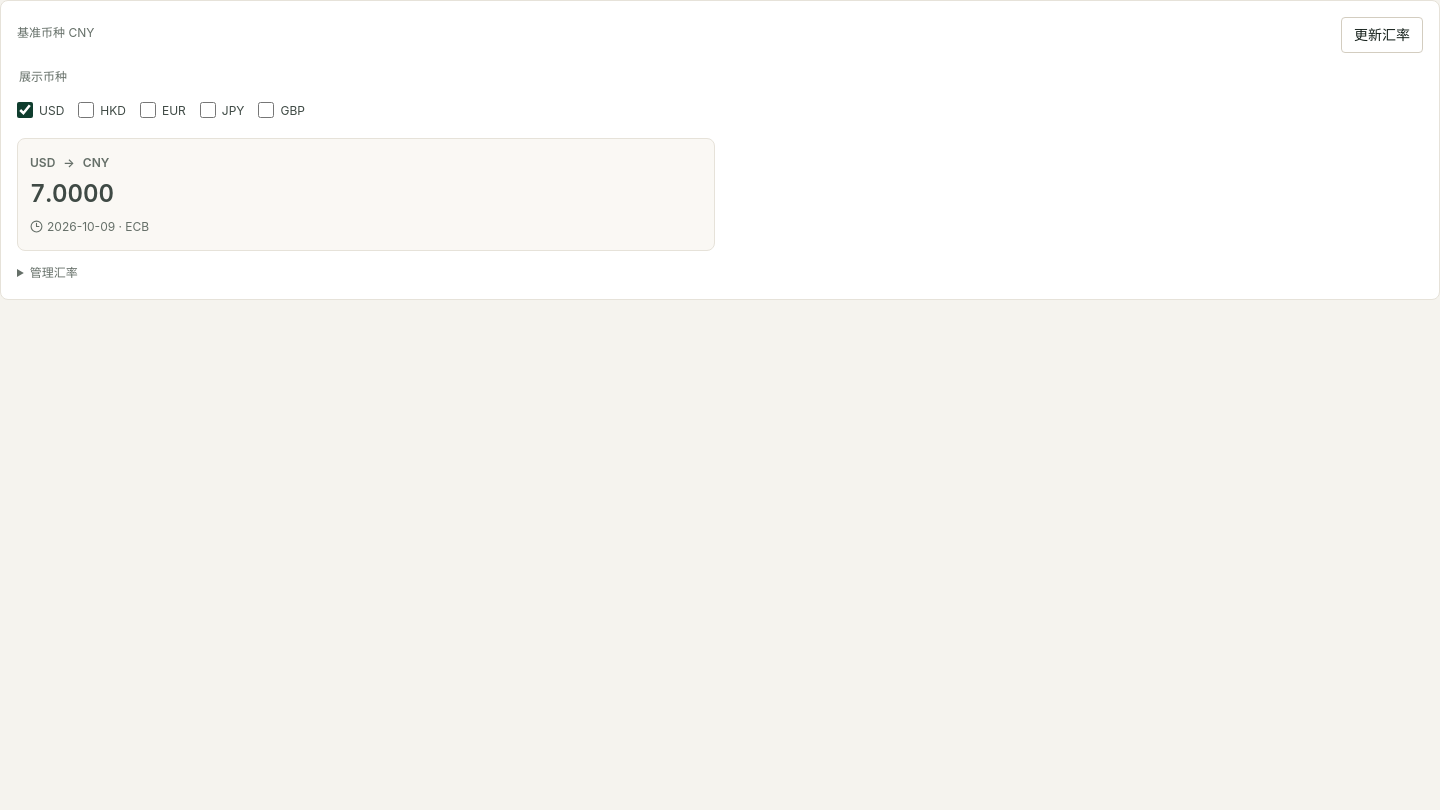
Test: shows automatically loaded values and saves a persistent manual rate then restores automatic
Expected: the text named "1 USD = 7.0000 CNY" is shown, [30,179,114,208]
Click the heading "管理汇率": x=54, y=273 [30,265,78,280]
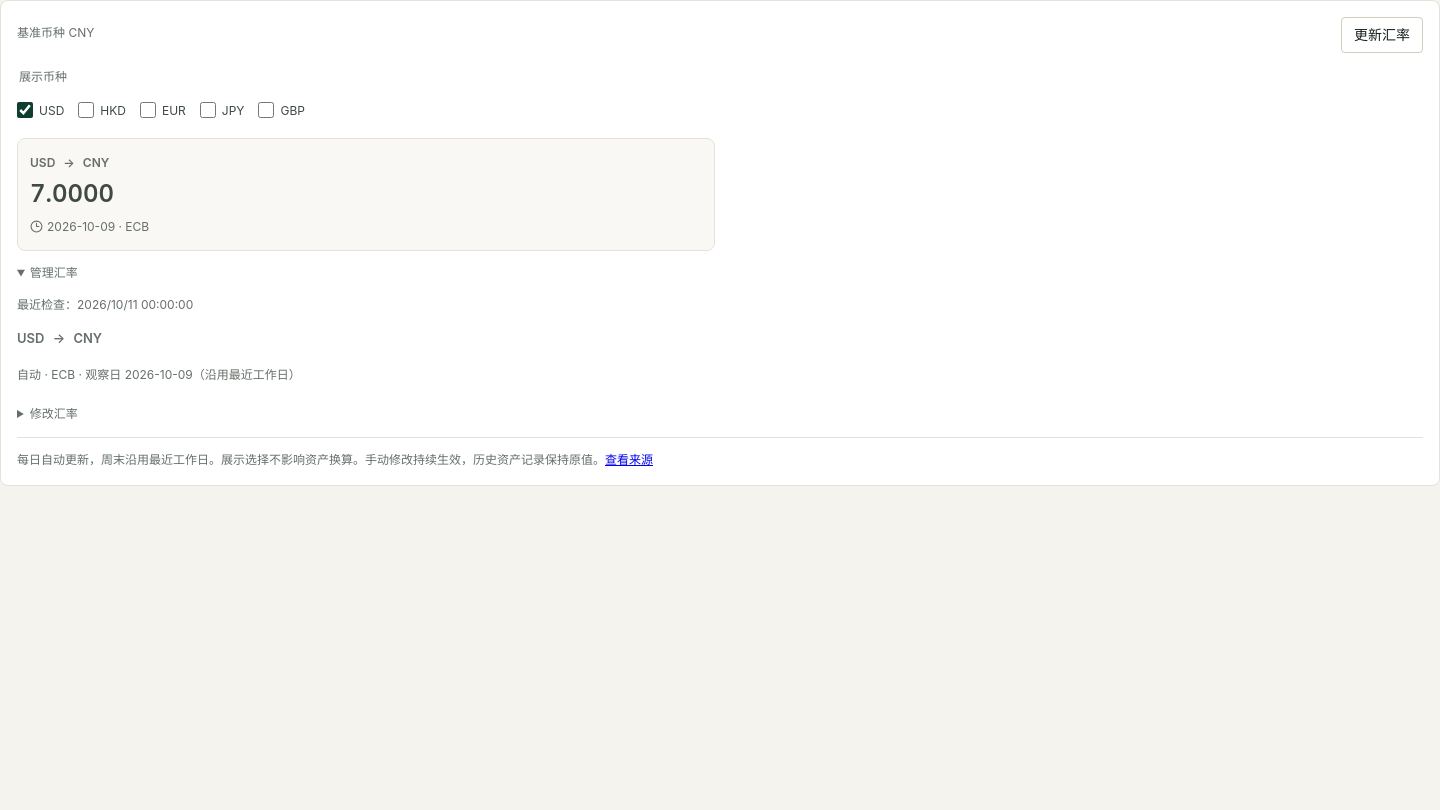
Click the heading "修改汇率": x=54, y=413 [30,406,78,421]
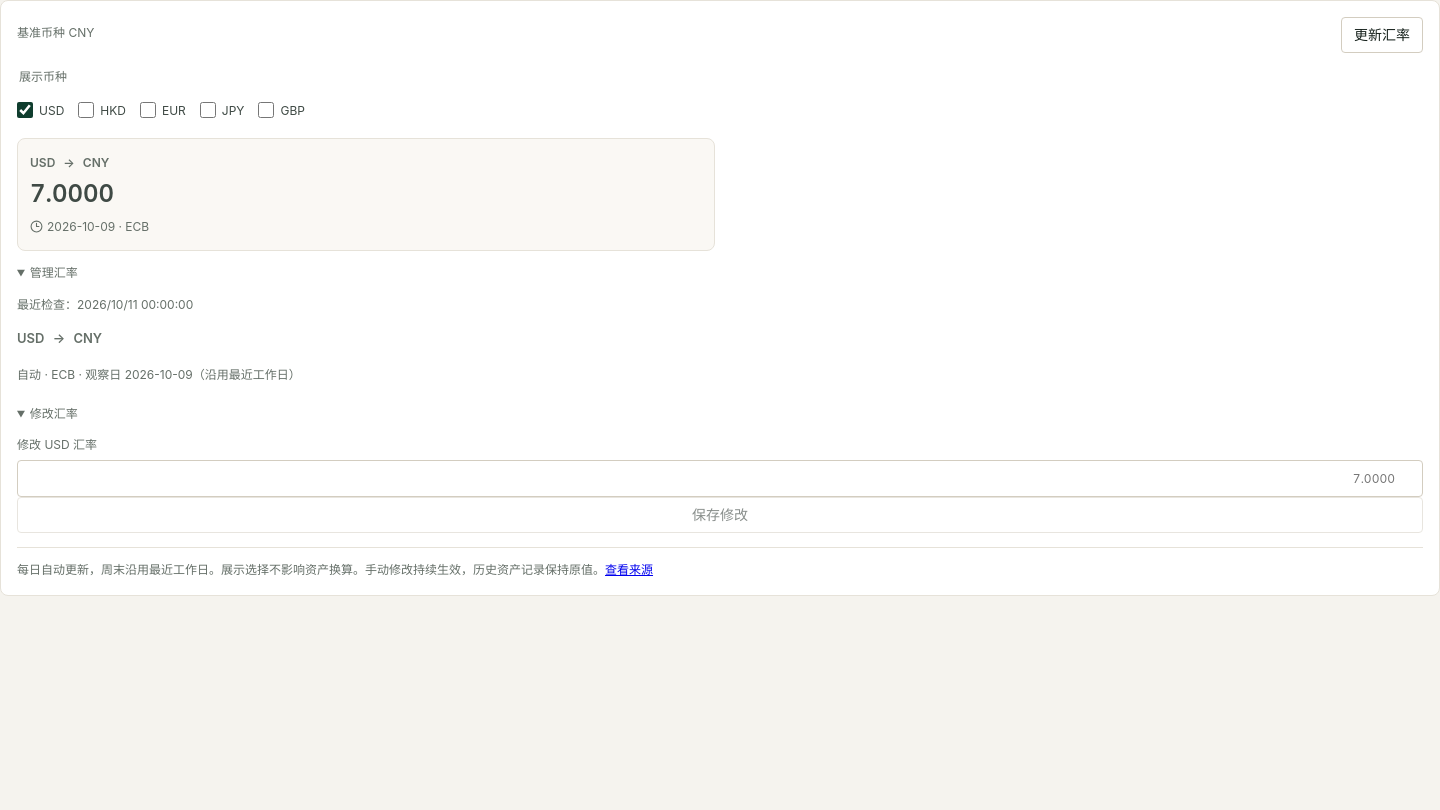
Expected: the text "自动 · ECB · 观察日 2026-10-09（沿用最近工作日）" is shown, [17,366,301,382]
In the number field labelled "修改 USD 汇率": x=720, y=479 [17,460,1423,497], type "8"
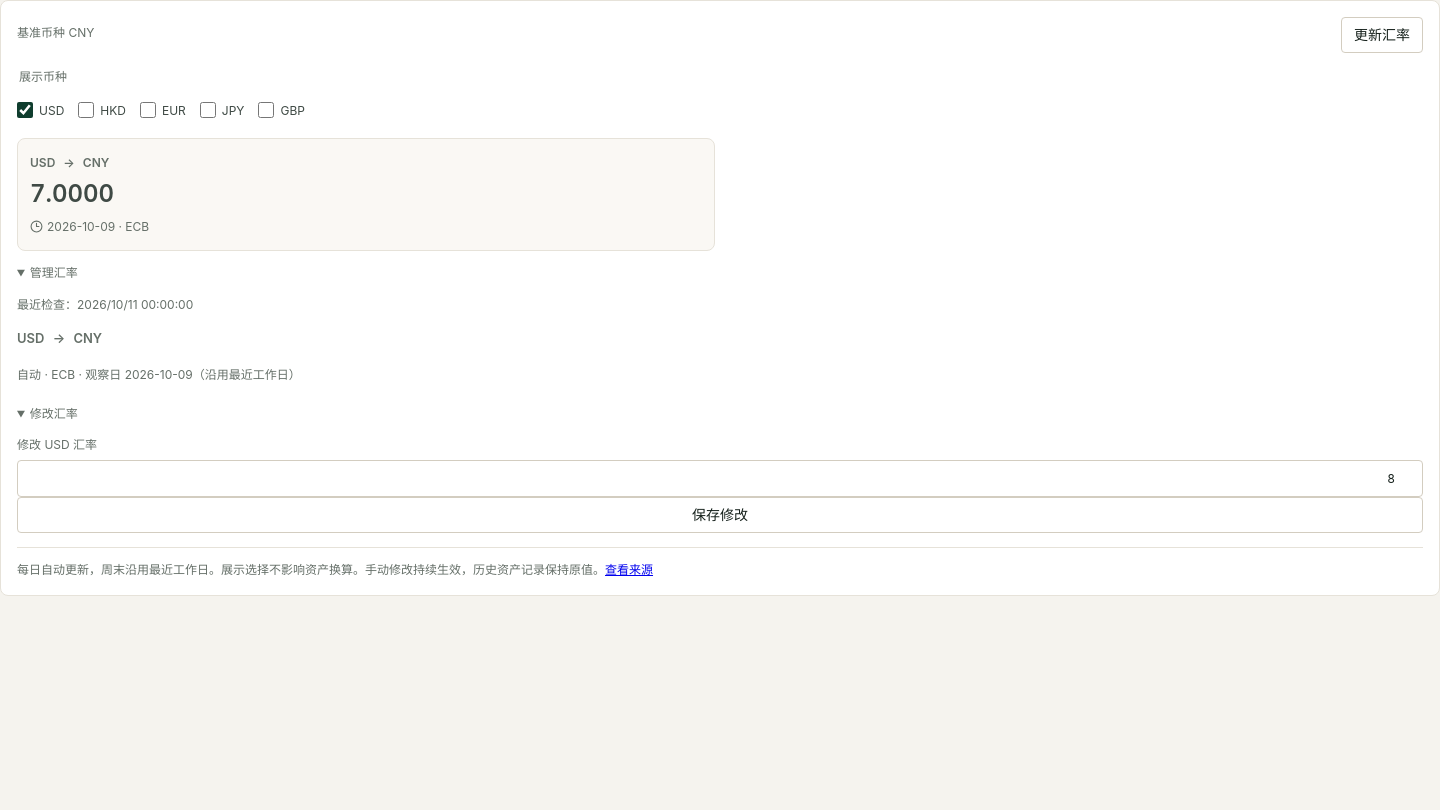
Click the button "保存修改": x=720, y=515 [17,497,1423,533]
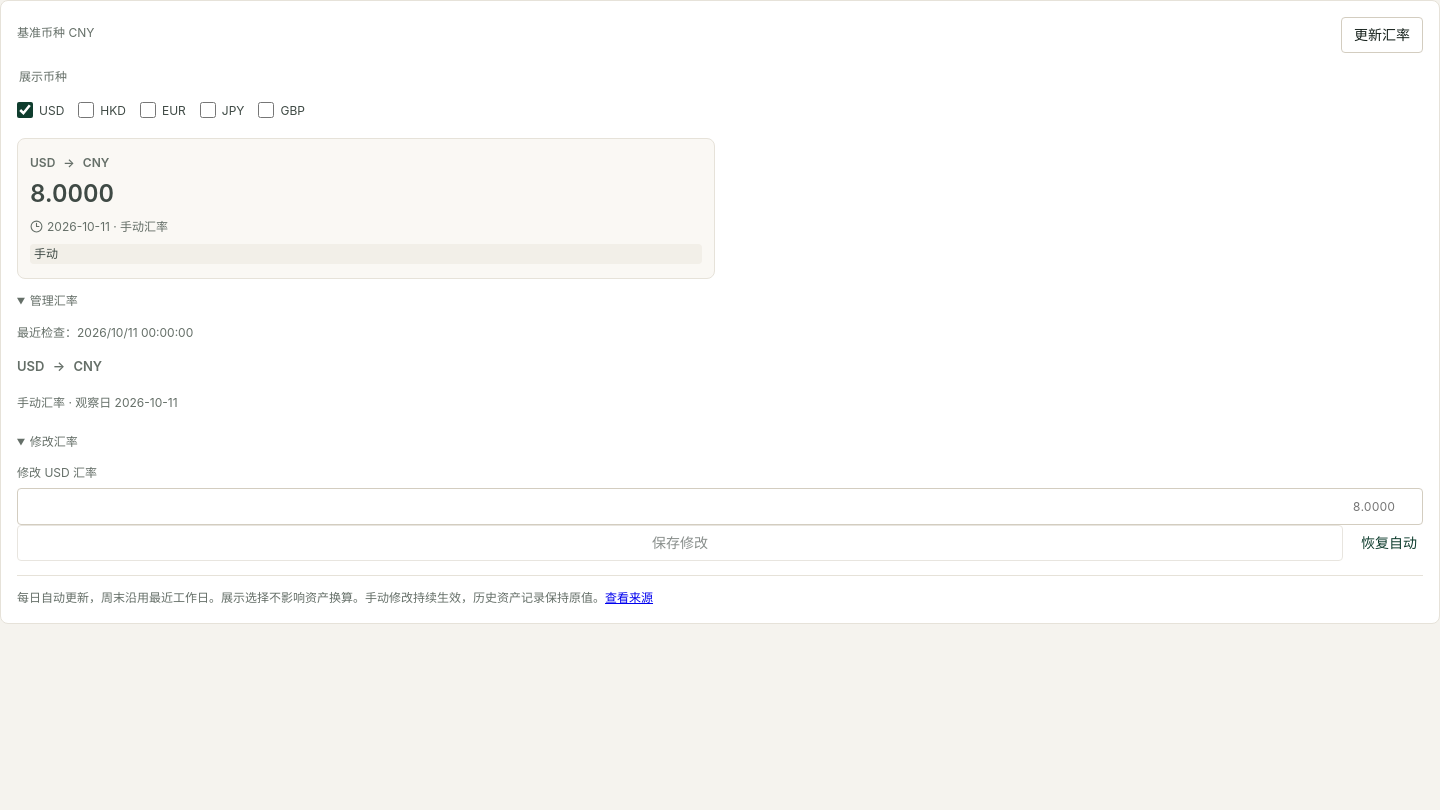
Expected: the text named "1 USD = 8.0000 CNY" is shown, [30,179,114,208]
Click the button "恢复自动": x=1389, y=543 [1355,531,1423,556]
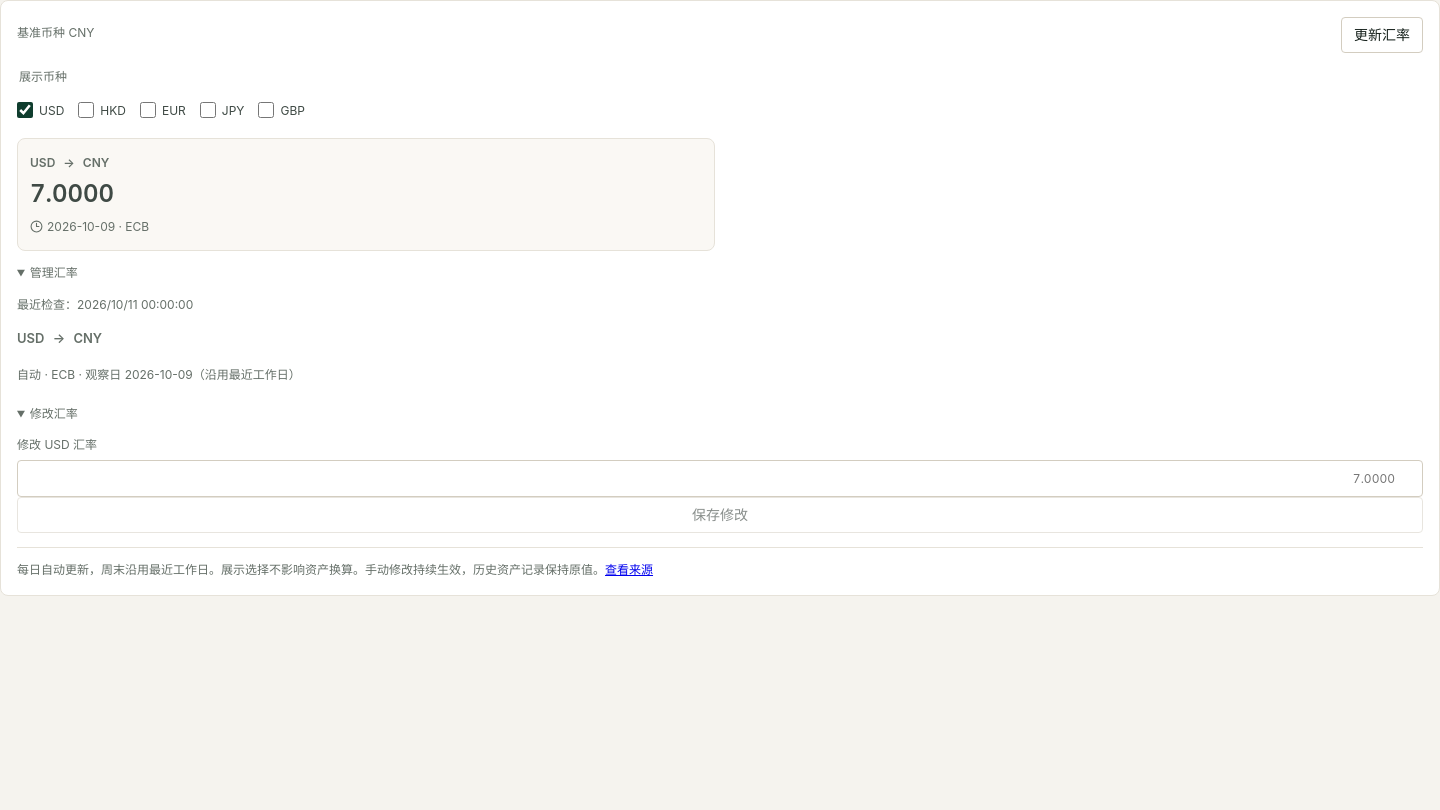
Expected: the text named "1 USD = 7.0000 CNY" is shown, [30,179,114,208]
